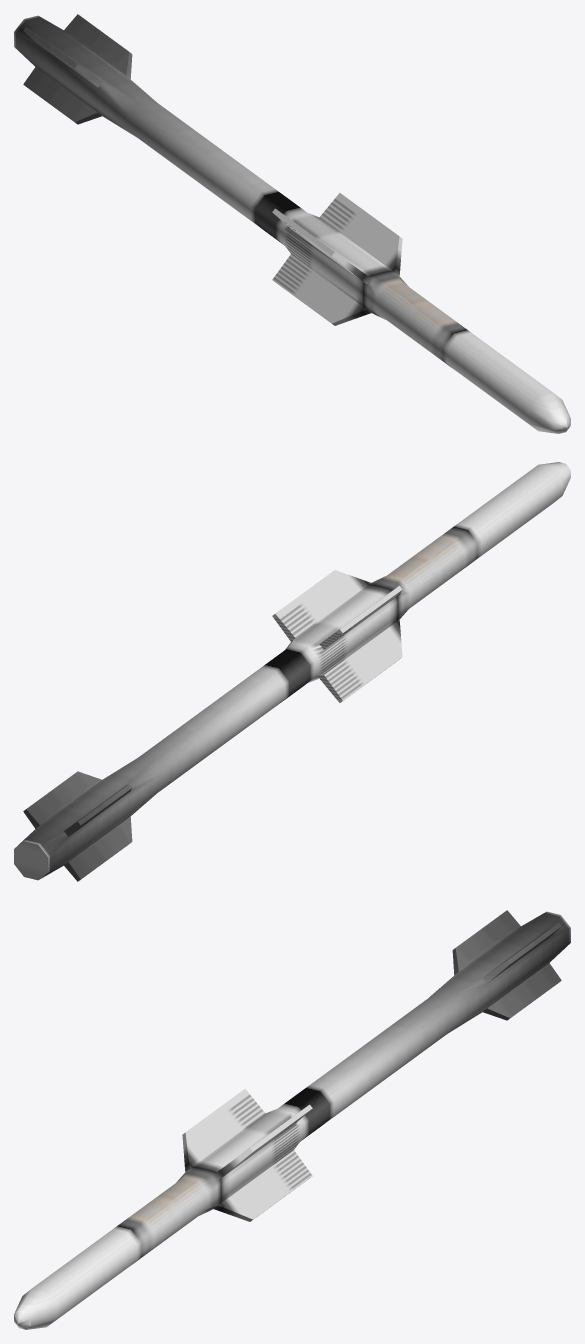
Rendered from vector.fbx.
The picture shows the model from 3 angles, top to bottom: view 1: azimuth 30°, elevation 25°; view 2: azimuth 150°, elevation 25°; view 3: azimuth 330°, elevation 25°; orthographic projection.
Visible parts, largest first — view 1: vector; view 2: vector; view 3: vector.
Part boxes in pixels (box(x1,y1,x2,y2)): vector: box(14, 14, 570, 433); vector: box(14, 462, 570, 881); vector: box(14, 910, 570, 1329).
Bounding box in the file's own units: 15.27 × 15.27 × 200.
